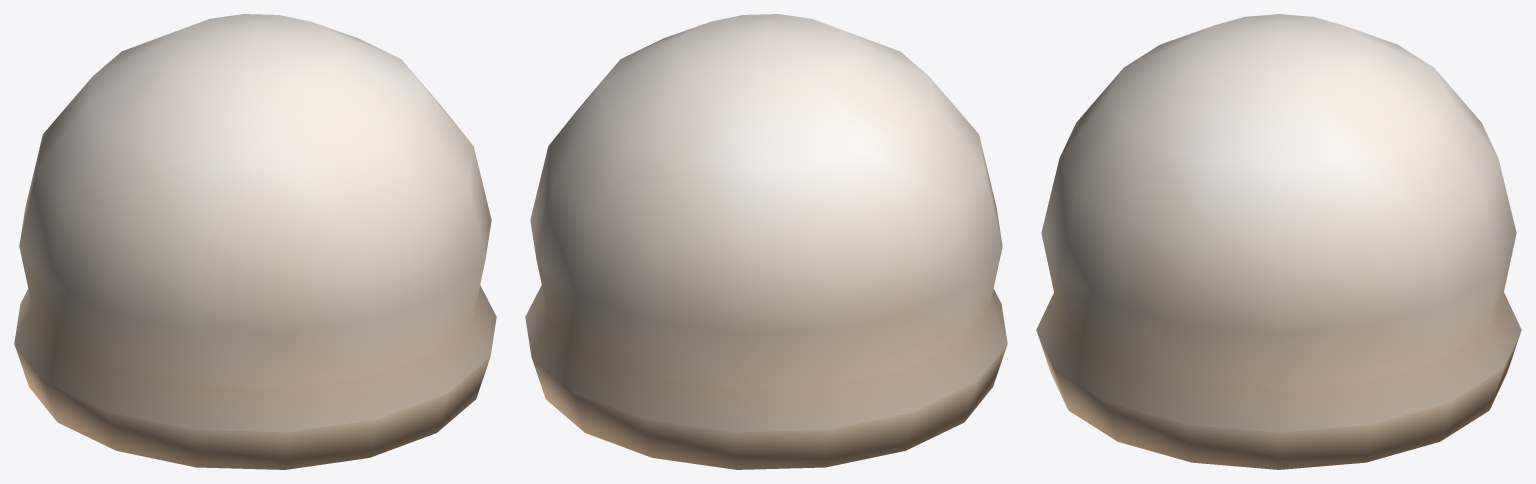
Rendered from icecream_bowl_icecream_vanilla.obj.
3 renders of one model, left to right at view 1: azimuth 30°, elevation 25°; view 2: azimuth 150°, elevation 25°; view 3: azimuth 270°, elevation 25°, orthographic.
Parts seen in each view (by area): view 1: icecream_bowl_icecream_vanilla_Sphere.103; view 2: icecream_bowl_icecream_vanilla_Sphere.103; view 3: icecream_bowl_icecream_vanilla_Sphere.103.
Boxes of the visible parts, box(x1,y1,x2,y2) form: icecream_bowl_icecream_vanilla_Sphere.103: box(14, 14, 496, 469); icecream_bowl_icecream_vanilla_Sphere.103: box(525, 14, 1007, 469); icecream_bowl_icecream_vanilla_Sphere.103: box(1036, 14, 1521, 469).
Bounding box in the file's own units: 0.45 × 0.36 × 0.45.
Materials: 1 (1 with a texture image).
